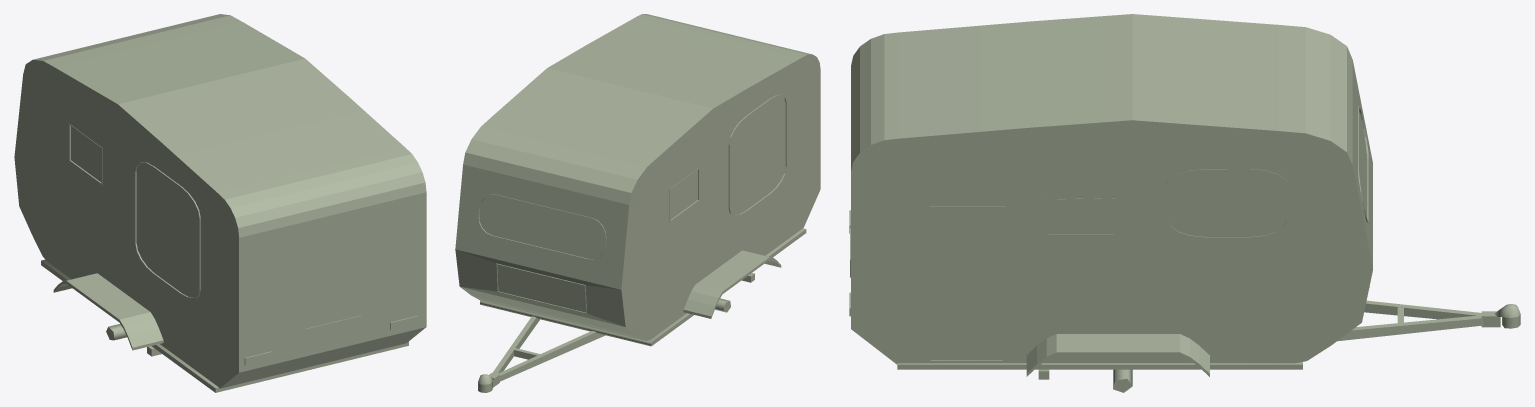
Rendered from Vehicles_hometrailer.fbx.
3 views of the same model, side by side, from view 1: azimuth 30°, elevation 25°; view 2: azimuth 150°, elevation 25°; view 3: azimuth 270°, elevation 25° (orthographic). The views are drawn at different scales.
Parts seen in each view (by area): view 1: CubeColor.002; view 2: CubeColor.002; view 3: CubeColor.002.
Part boxes in pixels (box(x1,y1,x2,y2)): CubeColor.002: box(14, 14, 426, 392); CubeColor.002: box(455, 14, 820, 392); CubeColor.002: box(849, 14, 1520, 392).
Bounding box in the file's own units: 299 × 267 × 597.
